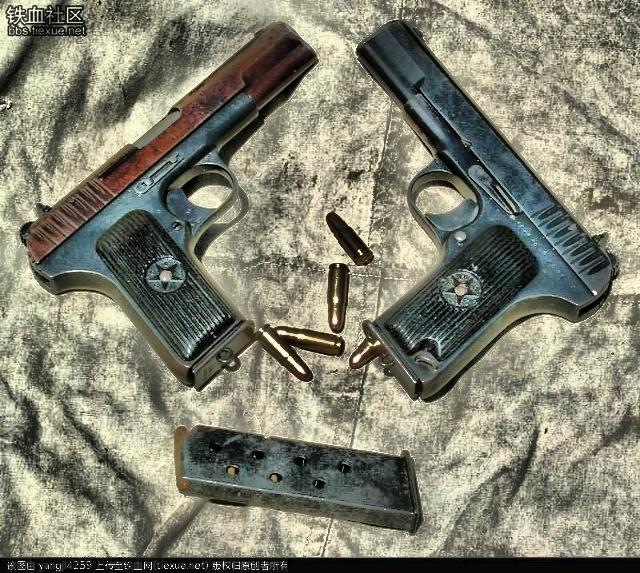pistol: (17, 15, 321, 391), (356, 19, 620, 412)
